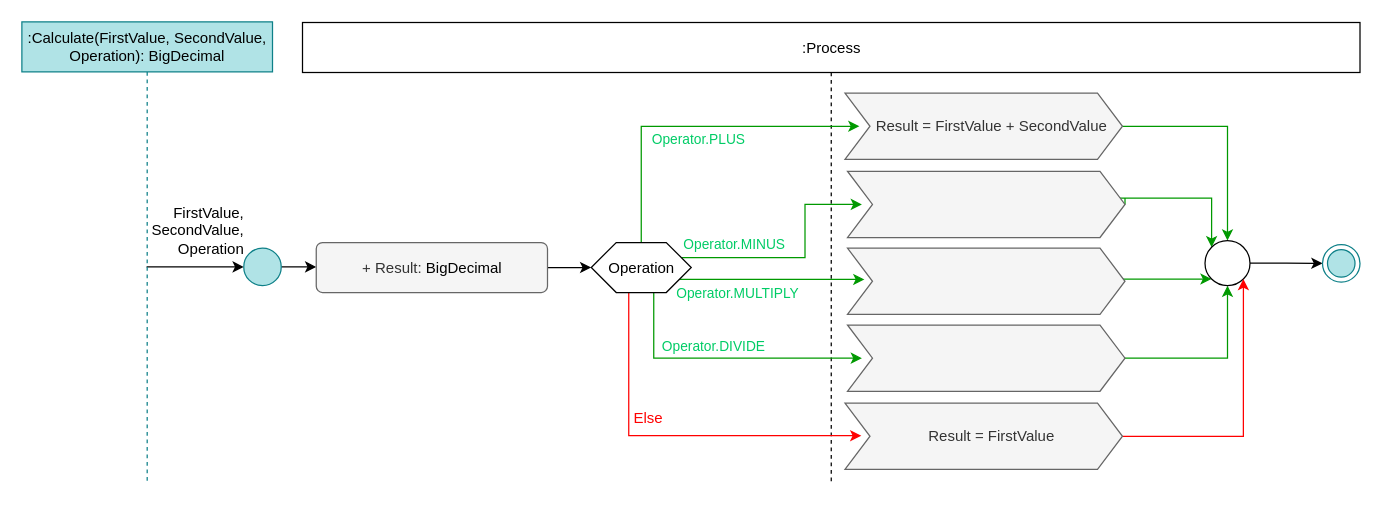
This 1383x508 diagram has some shape labels left out. The shapes that lost their labels are listed below. From the top down, each one's centre as x and y in pixels, then its label:
(x=985, y=204): Result = FirstValue - SecondValue
(x=985, y=280): Result = FirstValue * SecondValue
(x=1340, y=262): Result
(x=985, y=357): Result = FirstValue / SecondValue
